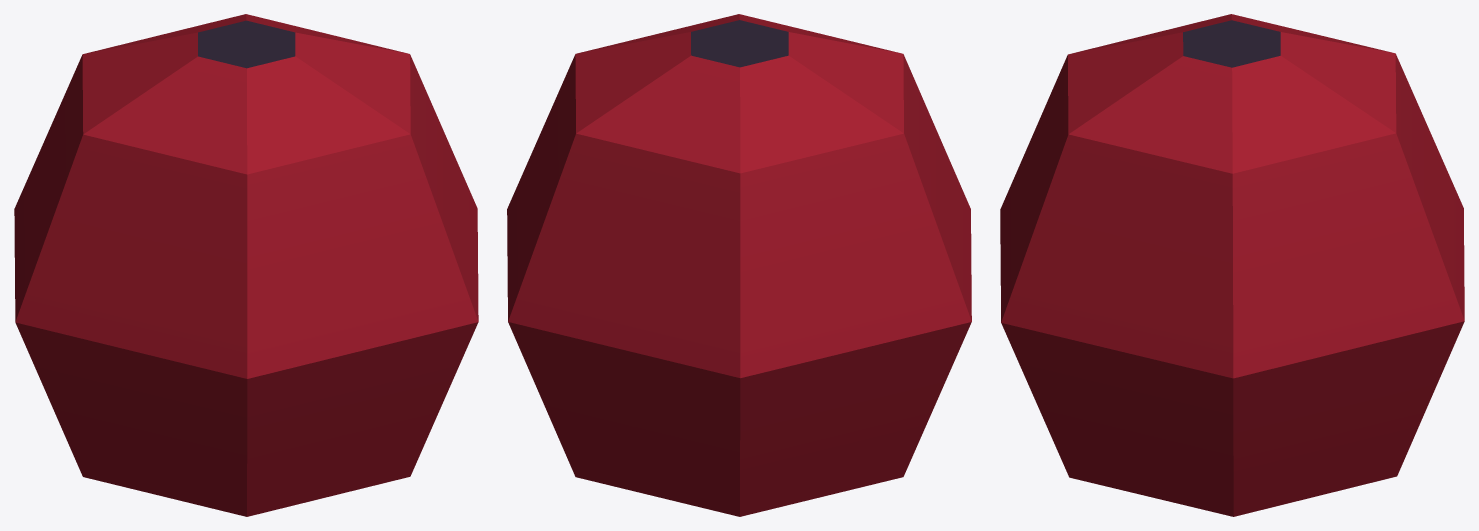
The model's file is Currant Piece.fbx.
3 views of the same model, side by side, from view 1: azimuth 30°, elevation 25°; view 2: azimuth 150°, elevation 25°; view 3: azimuth 270°, elevation 25° (orthographic).
Parts seen in each view (by area): view 1: Currant Piece; view 2: Currant Piece; view 3: Currant Piece.
Boxes of the visible parts, bbox=[...] form: Currant Piece: bbox=[14, 14, 478, 516]; Currant Piece: bbox=[507, 14, 971, 516]; Currant Piece: bbox=[1000, 14, 1464, 516].
Size of the model in its own units: 5.36 by 4.89 by 4.65.
